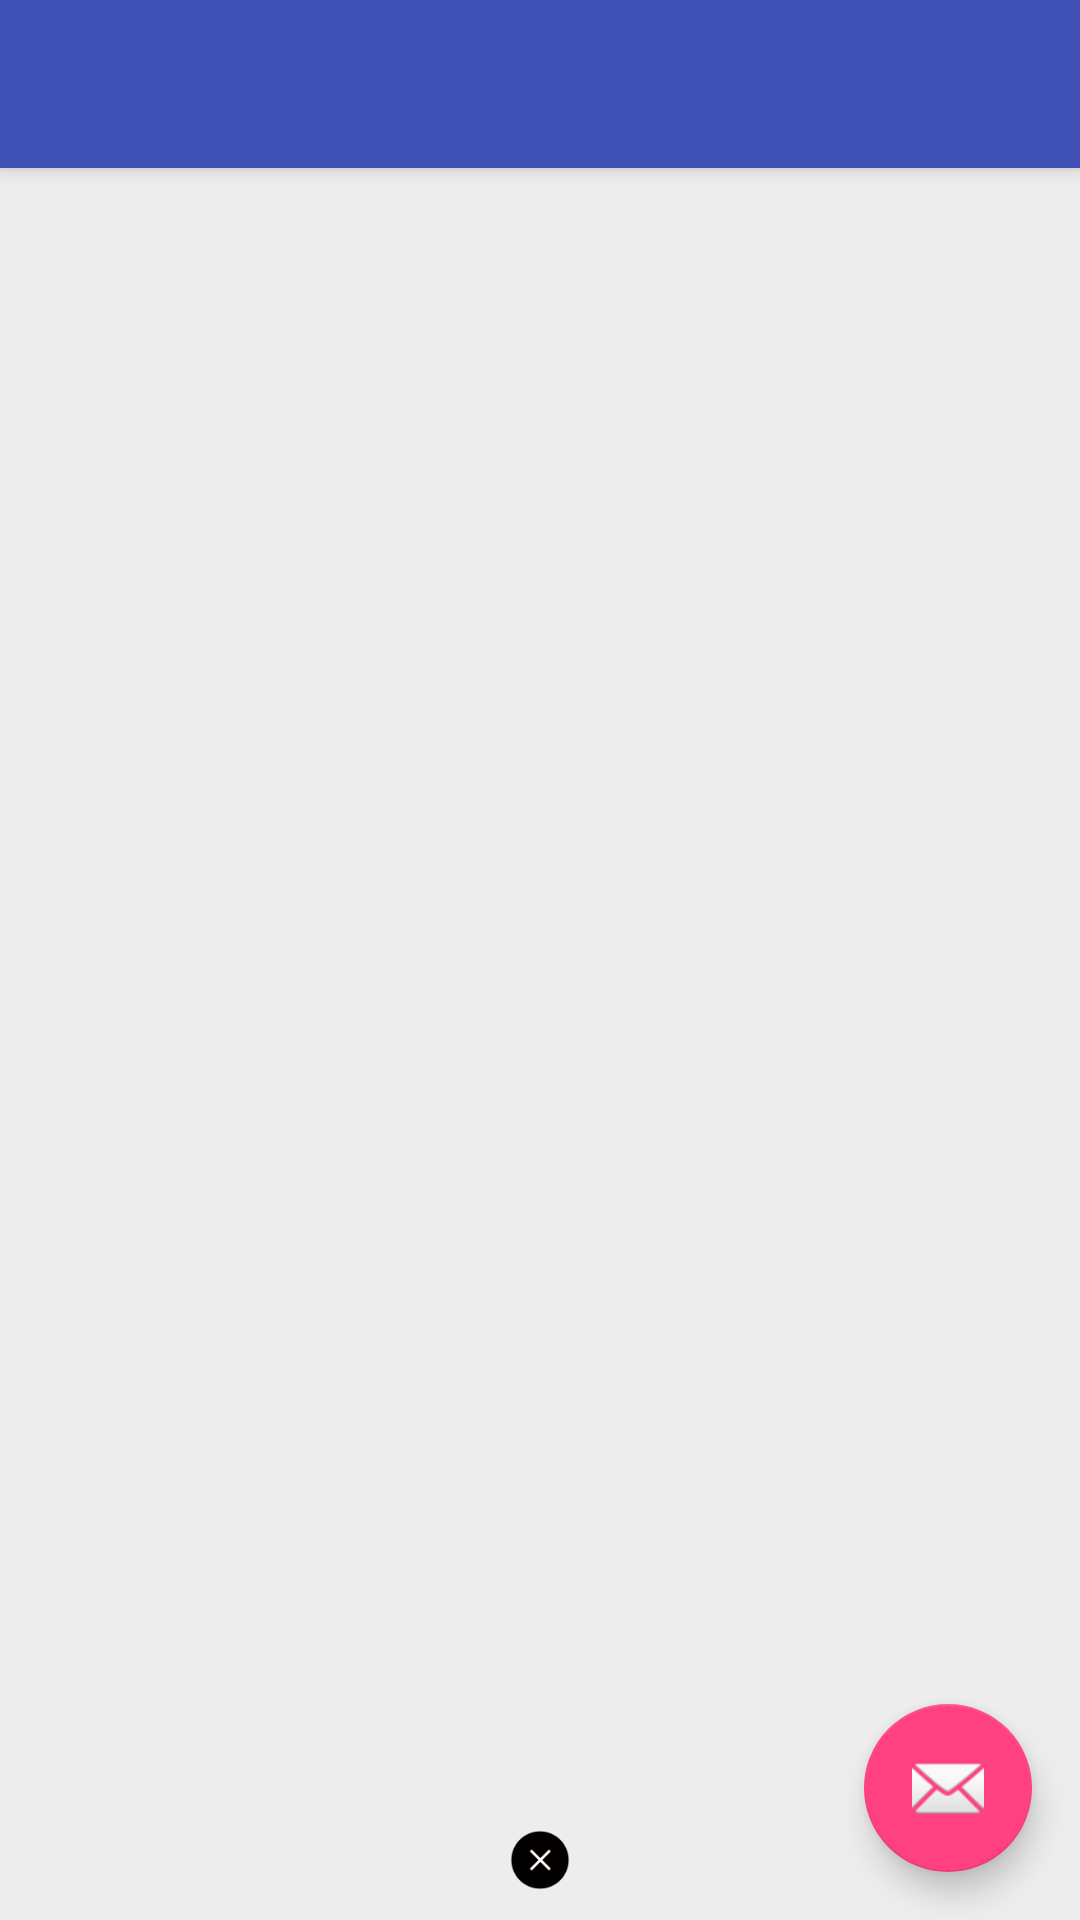

Screen size 1080px x 1920px. Icon name, then its center in pixels as (x=x, y=y):
email: (x=948, y=1788)
evaluate delete: (x=540, y=1860)
